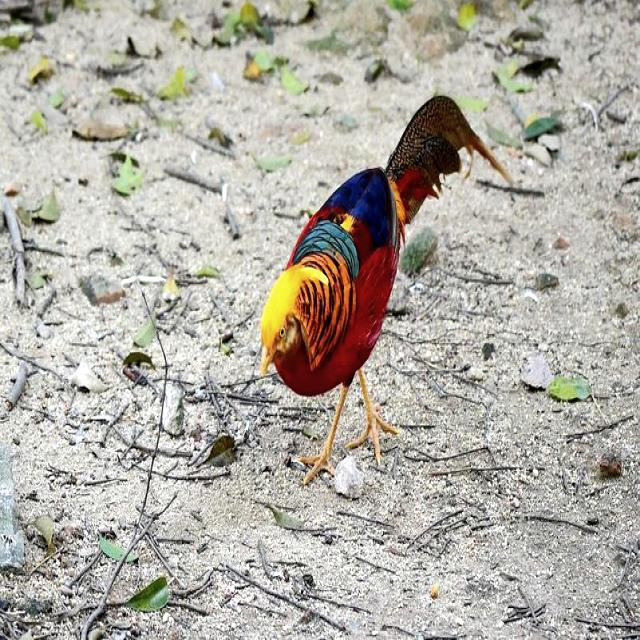Chrysolophus pictus feather: (386, 96, 512, 225)
